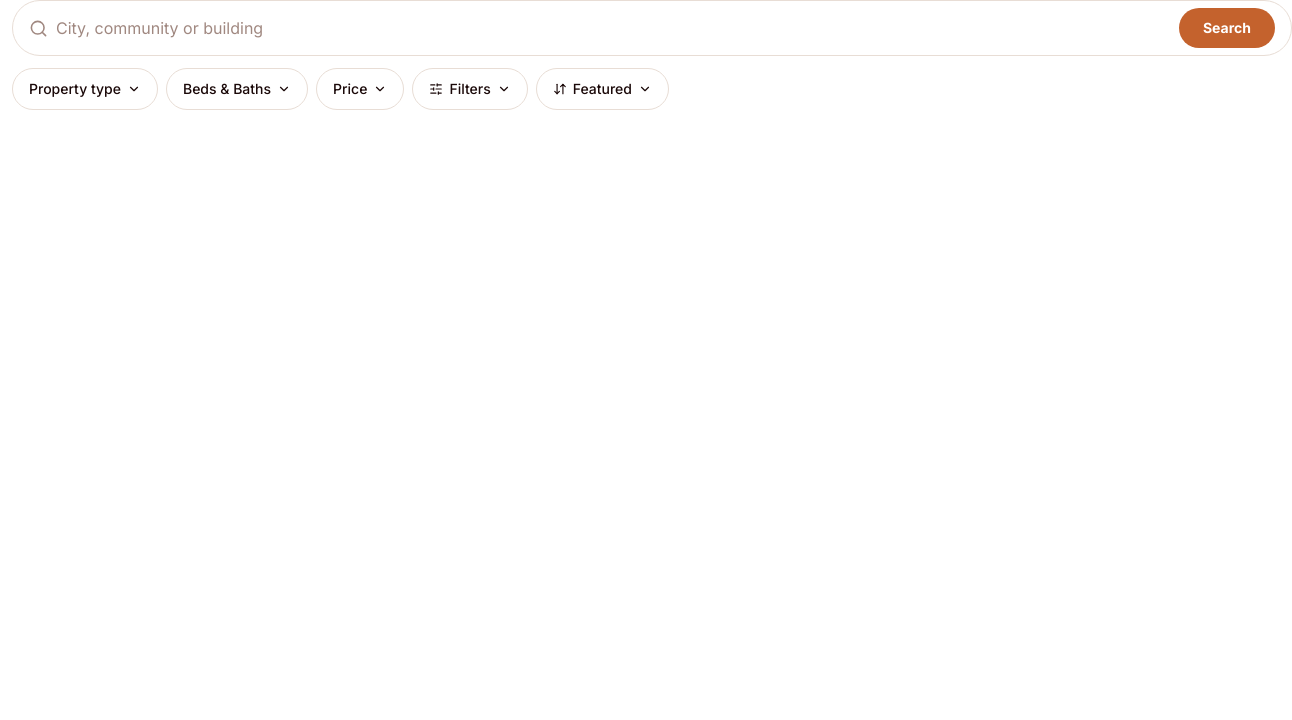
Test: filter dropdowns › closes when the pointer goes down outside it
The image size is (1292, 720).
Step 1. Click the button "Property type" → (85, 89), box [12, 68, 158, 110]
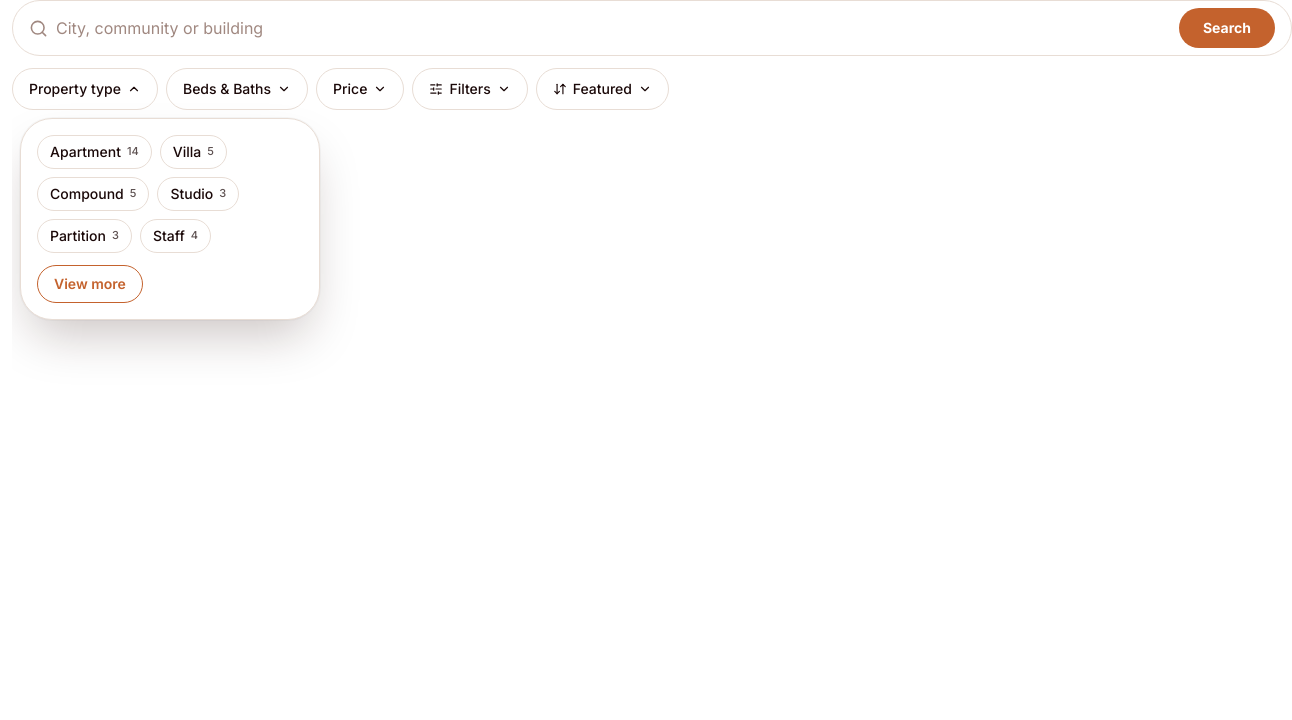
expect the button "Apartment 14" is shown: met, box [37, 135, 152, 169]
Step 2. Press the mouse on the element that starts with "Search" → (652, 360), box [12, 0, 1291, 719]
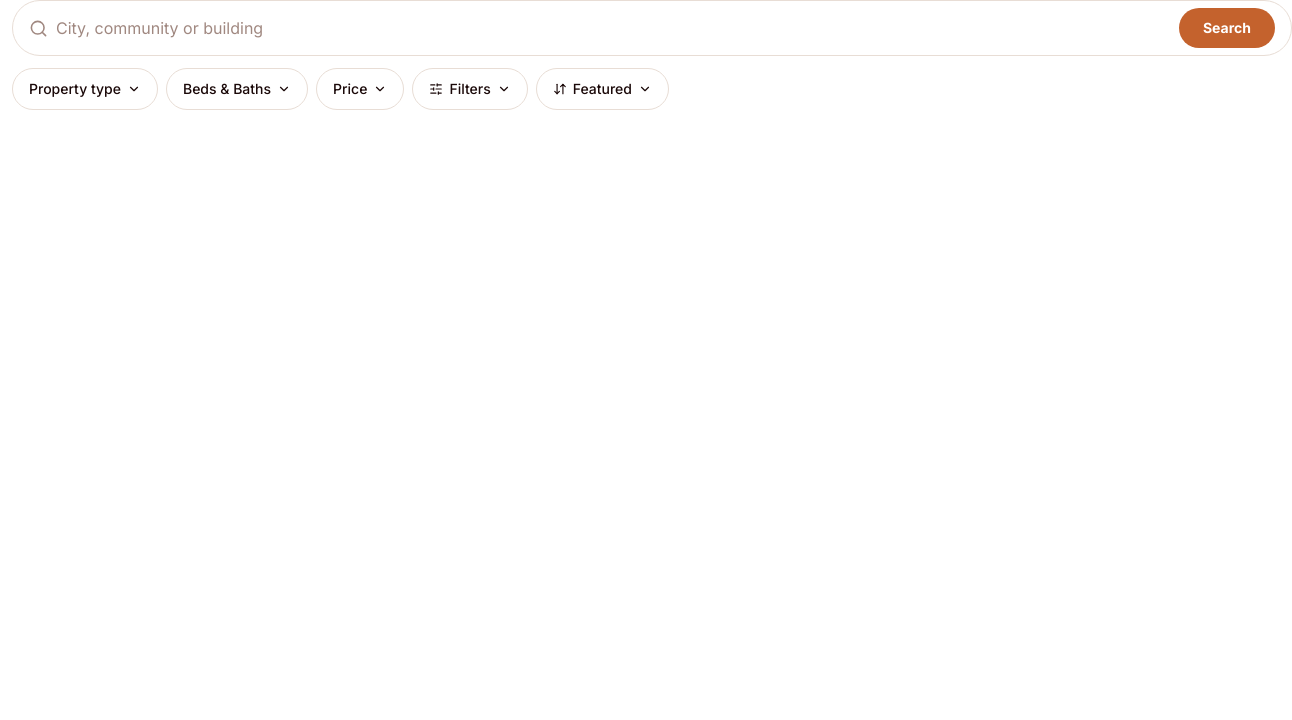
expect the button "Apartment" is gone: met
